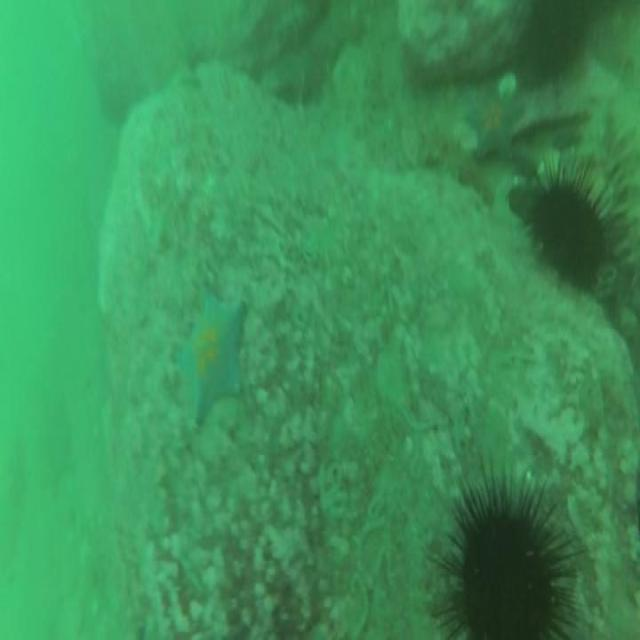echinus: (431, 456, 584, 640), (520, 163, 611, 297), (515, 0, 580, 88)
holothurian: (270, 0, 366, 109), (607, 84, 640, 308), (414, 122, 497, 208)
starfish: (178, 286, 252, 430), (461, 82, 527, 168)
